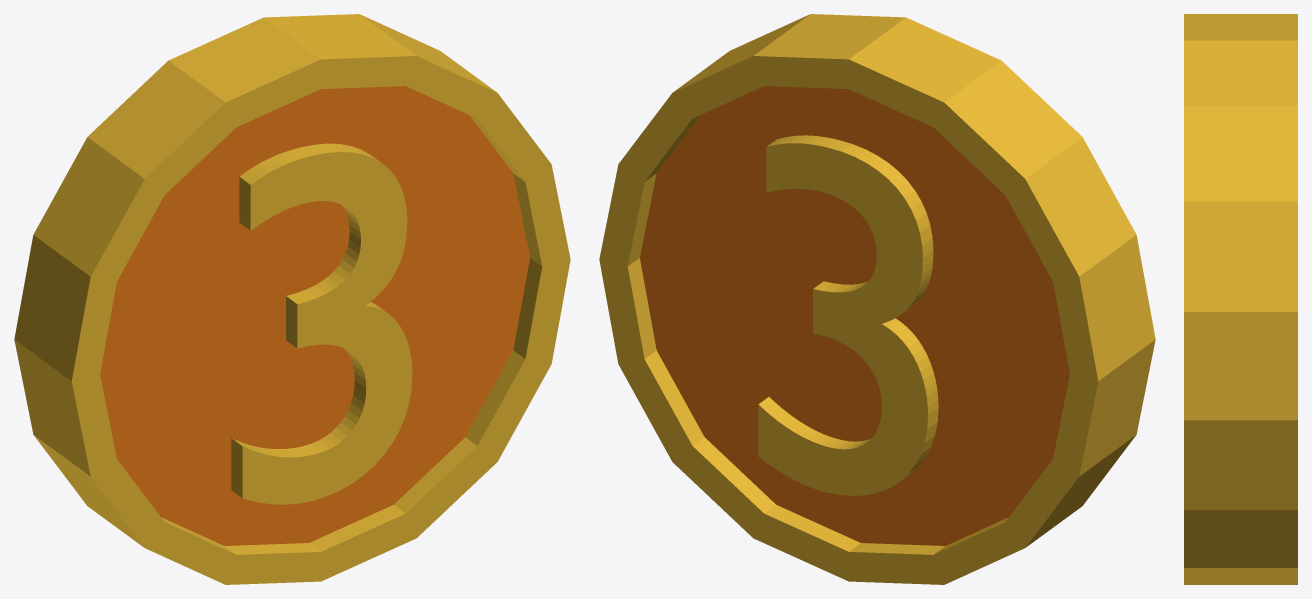
Rendered from ThreeCoin.fbx.
3 views of the same model, side by side, from view 1: azimuth 30°, elevation 25°; view 2: azimuth 150°, elevation 25°; view 3: azimuth 270°, elevation 25° (orthographic).
Visible parts, largest first — view 1: ThreeCoin; view 2: ThreeCoin; view 3: ThreeCoin.
Boxes of the visible parts, box(x1,y1,x2,y2) form: ThreeCoin: box(14, 14, 570, 584); ThreeCoin: box(599, 14, 1155, 584); ThreeCoin: box(1184, 14, 1297, 584).
Size of the model in its own units: 84.1 by 84.1 by 16.74.
